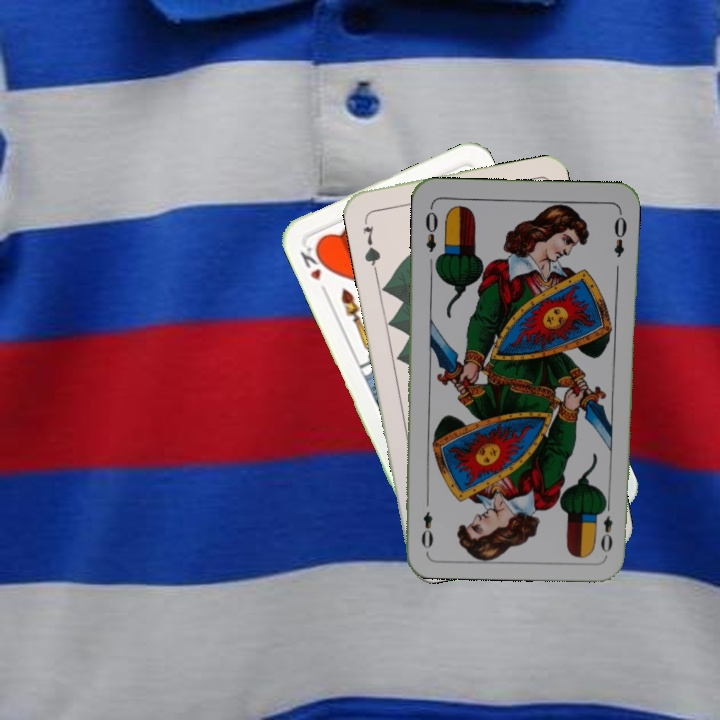EO: (597, 497, 615, 555), (421, 202, 440, 255)
G7: (359, 213, 383, 272)
HK: (296, 239, 331, 297)
